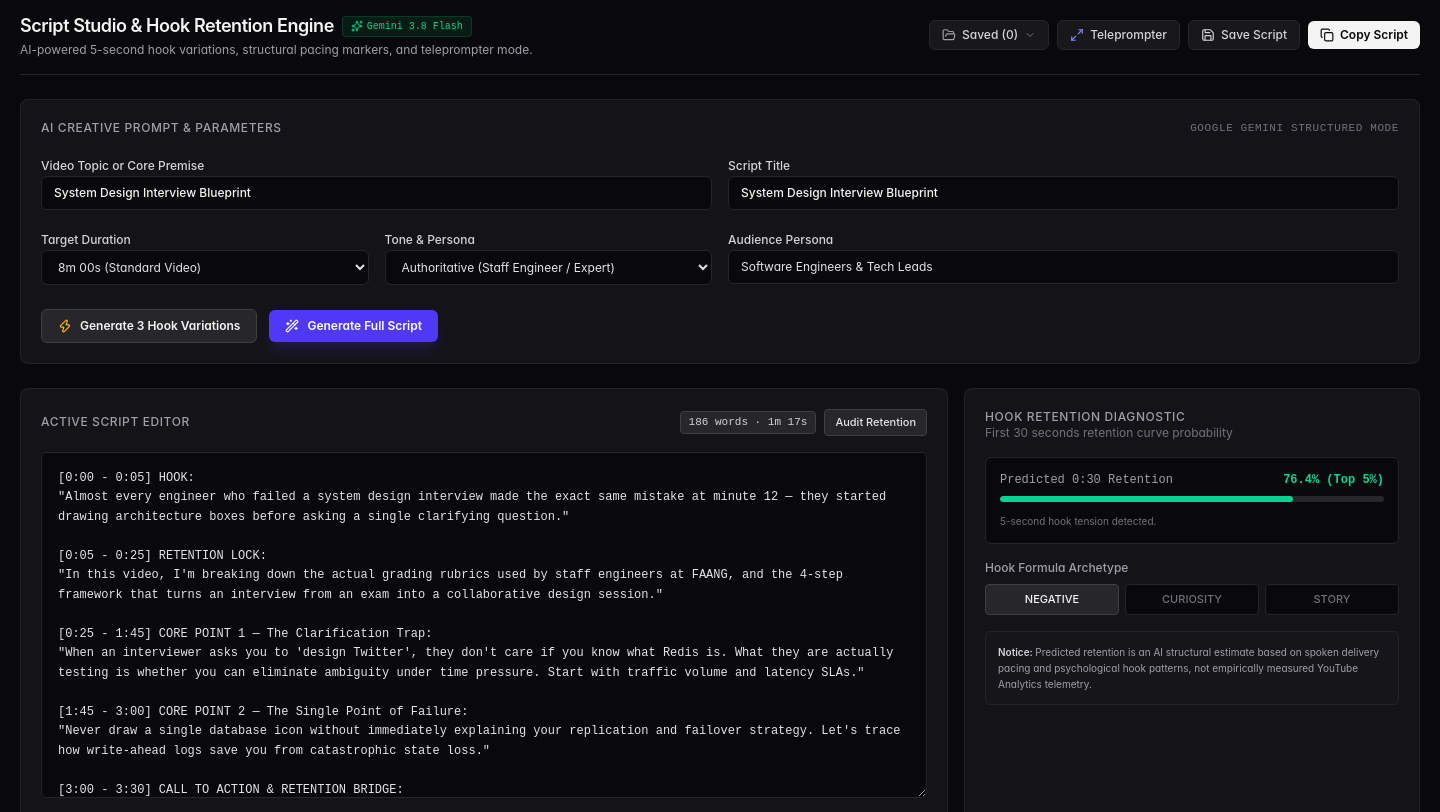
Test case: ScriptStudioPage Component Tests › generates hook variations successfully and allows selecting a hook
Replace the text in the field with placeholder "e.g. Scaling SQLite for AI Agents" with "Scaling Distributed Queues". click: (376, 193)
box: [41,176,712,210]
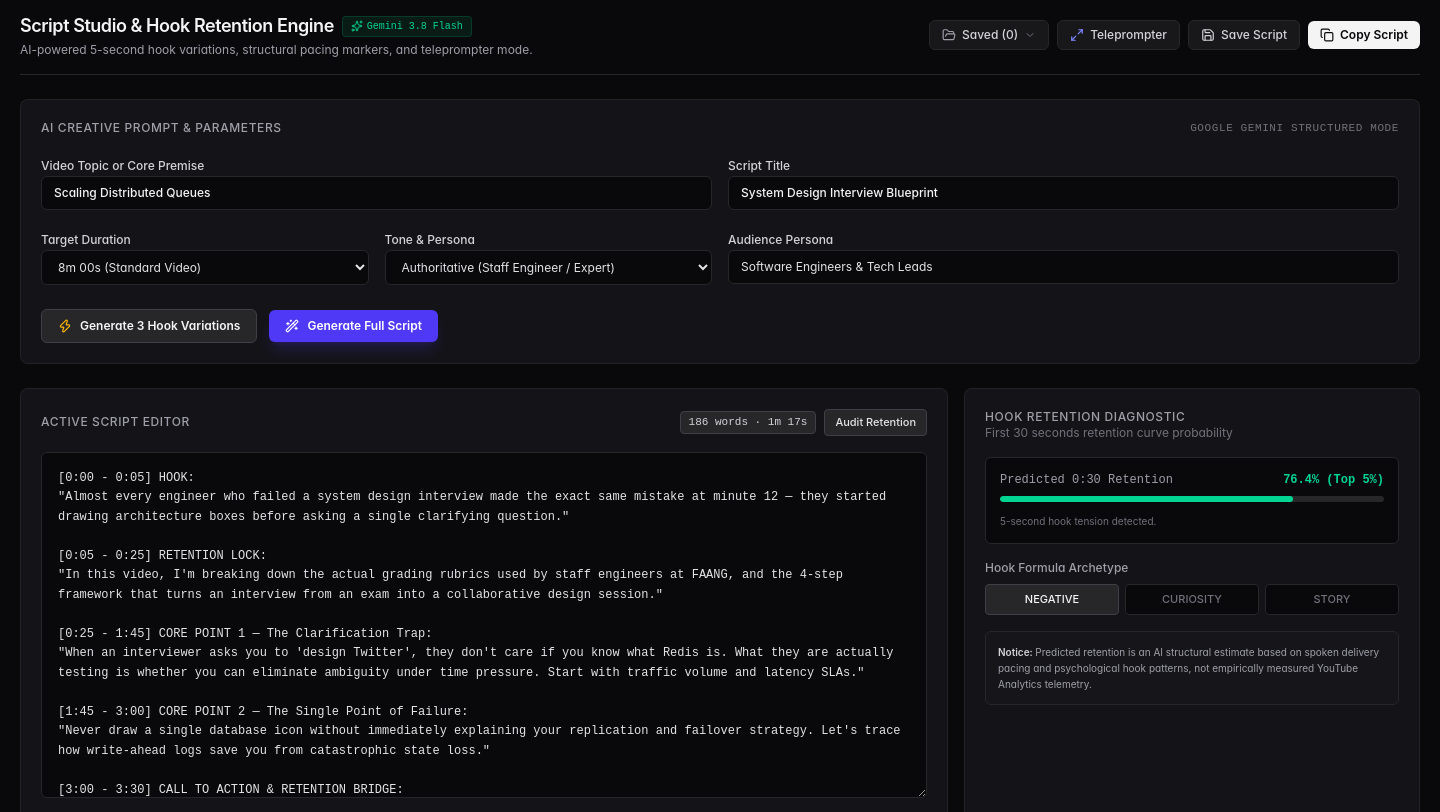
Click the button "Generate 3 Hook Variations". click: (149, 326)
box: [41,309,257,343]
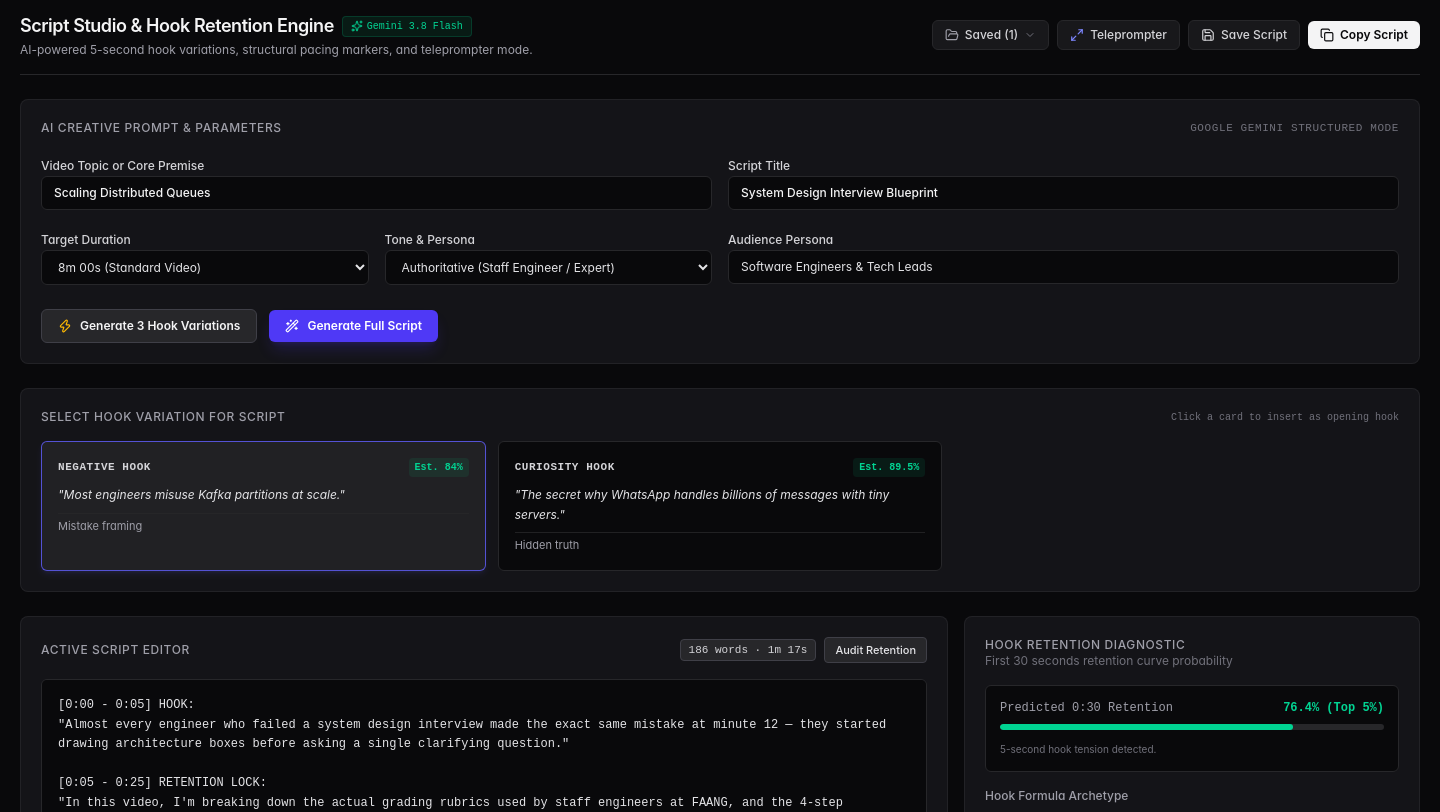
Check: the text "\"Most engineers misuse Kafka partitions at scale.\"" is shown, box [58,487,345,502]
Check: the text "The secret why WhatsApp handles billions of messages with tiny servers." is shown, box [515,487,889,522]
